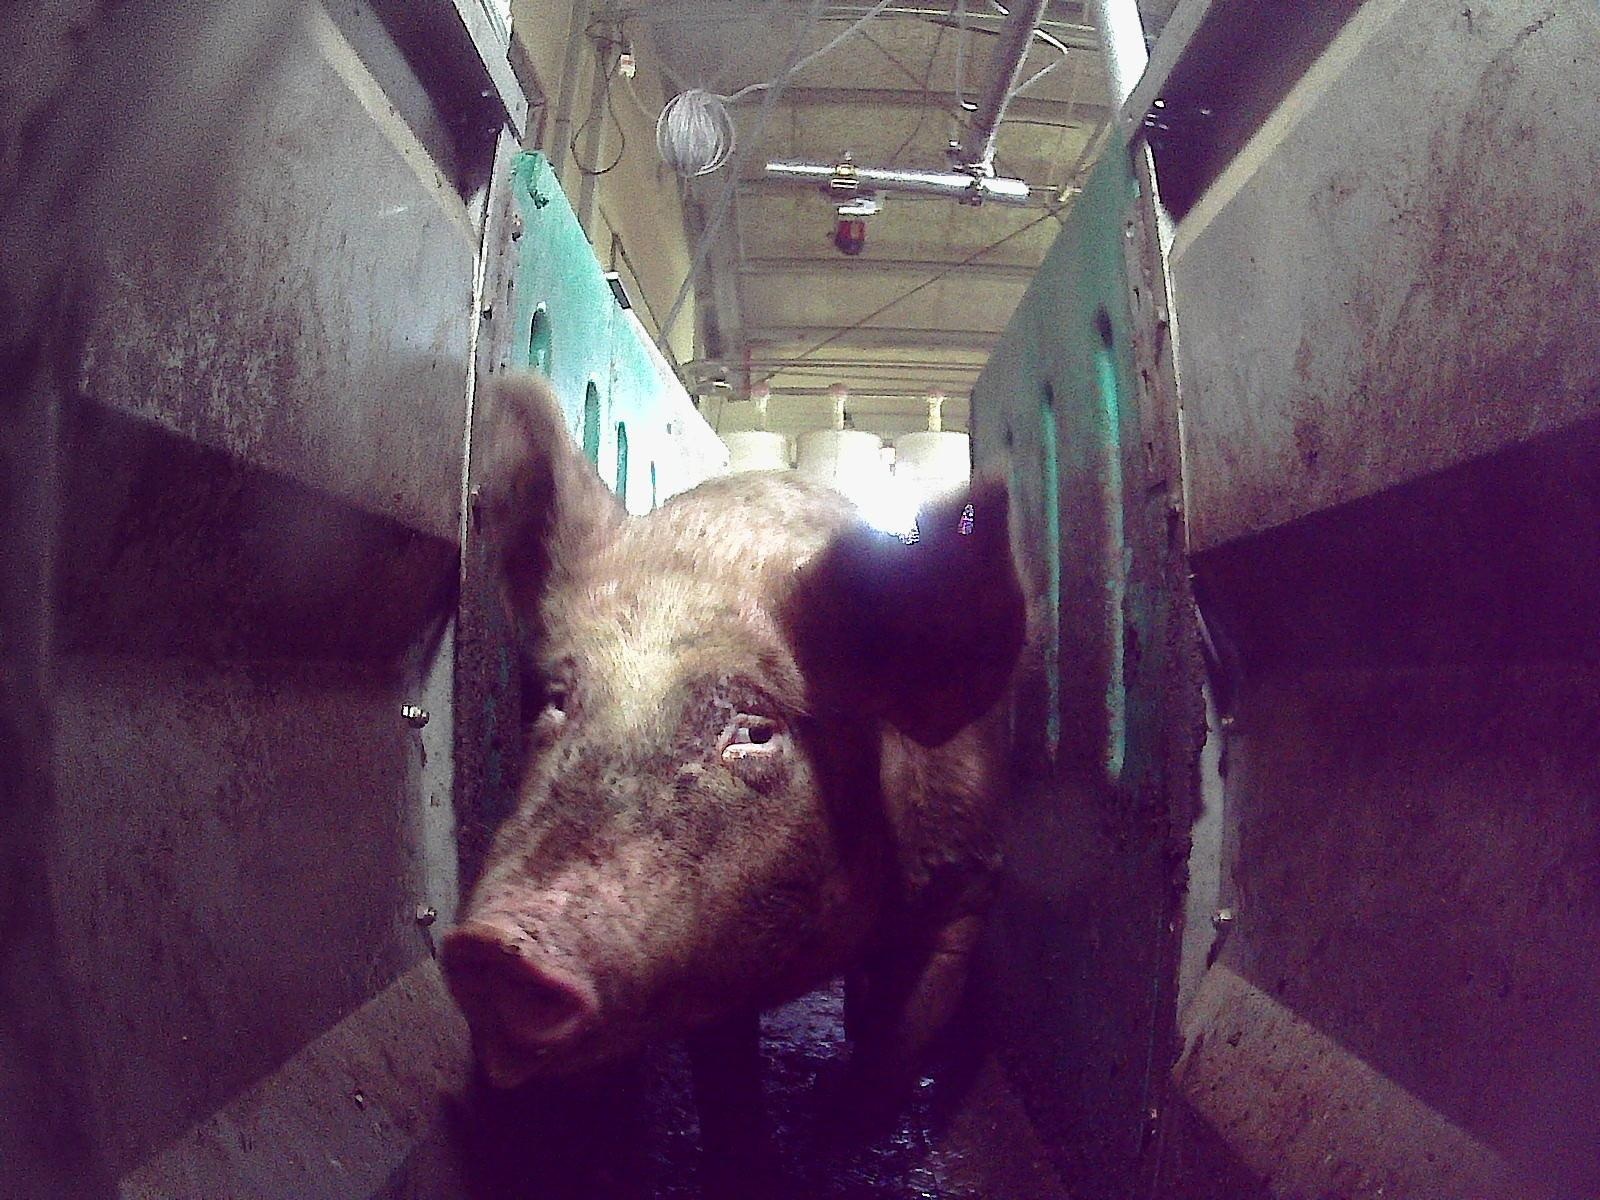Face: (443, 524, 848, 1078)
